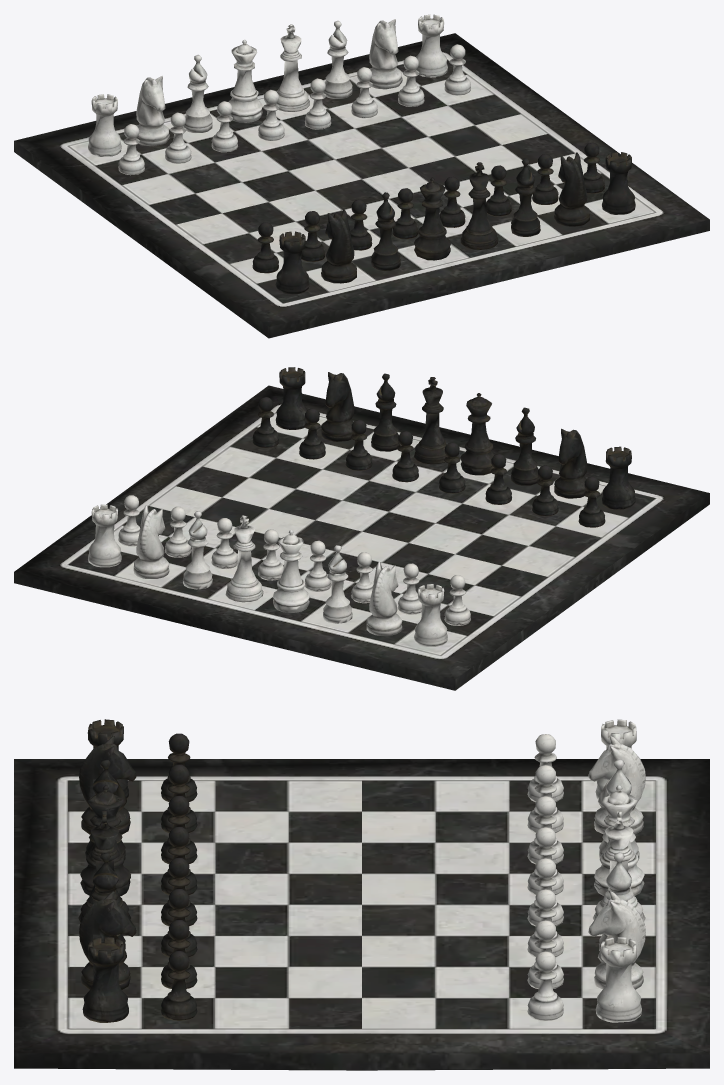
Rendered from chess_set.ff1dd6ee.glb.
The picture shows the model from 3 angles, top to bottom: view 1: azimuth 30°, elevation 25°; view 2: azimuth 150°, elevation 25°; view 3: azimuth 270°, elevation 25°; orthographic projection. The views are drawn at different scales.
Parts seen in each view (by area): view 1: board, piece_queen_black, piece_knight_black_02, piece_knight_black_01, piece_queen_white, piece_knight_white_01, piece_knight_white_02, piece_king_black, piece_king_white, piece_rook_black_01, piece_rook_white_02, piece_rook_black_02 (+21 smaller); view 2: board, piece_queen_white, piece_knight_white_02, piece_knight_white_01, piece_queen_black, piece_knight_black_01, piece_knight_black_02, piece_king_white, piece_king_black, piece_rook_white_01, piece_rook_white_02, piece_rook_black_01 (+21 smaller); view 3: board, piece_rook_white_01, piece_rook_black_02, piece_knight_white_01, piece_knight_black_02, piece_knight_black_01, piece_knight_white_02, piece_queen_white, piece_queen_black, piece_pawn_black_08, piece_pawn_white_01, piece_king_black (+21 smaller).
Part boxes in pixels (x1,y1,x2,y2): board: [14, 33, 709, 338]; piece_queen_black: [414, 177, 450, 260]; piece_knight_black_02: [554, 152, 589, 226]; piece_knight_black_01: [321, 209, 356, 283]; piece_queen_white: [228, 39, 262, 122]; piece_knight_white_01: [369, 19, 402, 89]; piece_knight_white_02: [136, 76, 169, 146]; piece_king_black: [460, 162, 498, 249]; piece_king_white: [276, 24, 309, 111]; piece_rook_black_01: [275, 231, 309, 294]; piece_rook_white_02: [88, 94, 121, 156]; piece_rook_black_02: [602, 152, 635, 214]; board: [14, 385, 709, 690]; piece_queen_white: [273, 530, 309, 612]; piece_knight_white_02: [366, 562, 402, 635]; piece_knight_white_01: [133, 505, 169, 578]; piece_queen_black: [460, 393, 495, 475]; piece_knight_black_01: [554, 428, 587, 498]; piece_knight_black_02: [321, 372, 354, 441]; piece_king_white: [225, 515, 263, 602]; piece_king_black: [414, 377, 447, 464]; piece_rook_white_01: [88, 504, 121, 567]; piece_rook_white_02: [414, 584, 447, 646]; piece_rook_black_01: [602, 446, 635, 509]; board: [14, 759, 709, 1070]; piece_rook_white_01: [595, 937, 641, 1022]; piece_rook_black_02: [82, 937, 128, 1022]; piece_knight_white_01: [588, 891, 645, 989]; piece_knight_black_02: [79, 891, 136, 989]; piece_knight_black_01: [79, 736, 136, 834]; piece_knight_white_02: [588, 736, 645, 834]; piece_queen_white: [594, 785, 644, 895]; piece_queen_black: [80, 785, 130, 896]; piece_pawn_black_08: [161, 951, 197, 1020]; piece_pawn_white_01: [527, 951, 563, 1020]; piece_king_black: [78, 811, 130, 922].
Bounding box in the file's own units: 0.7233 × 0.1448 × 0.72.
Materials: 3 (3 with a texture image).
